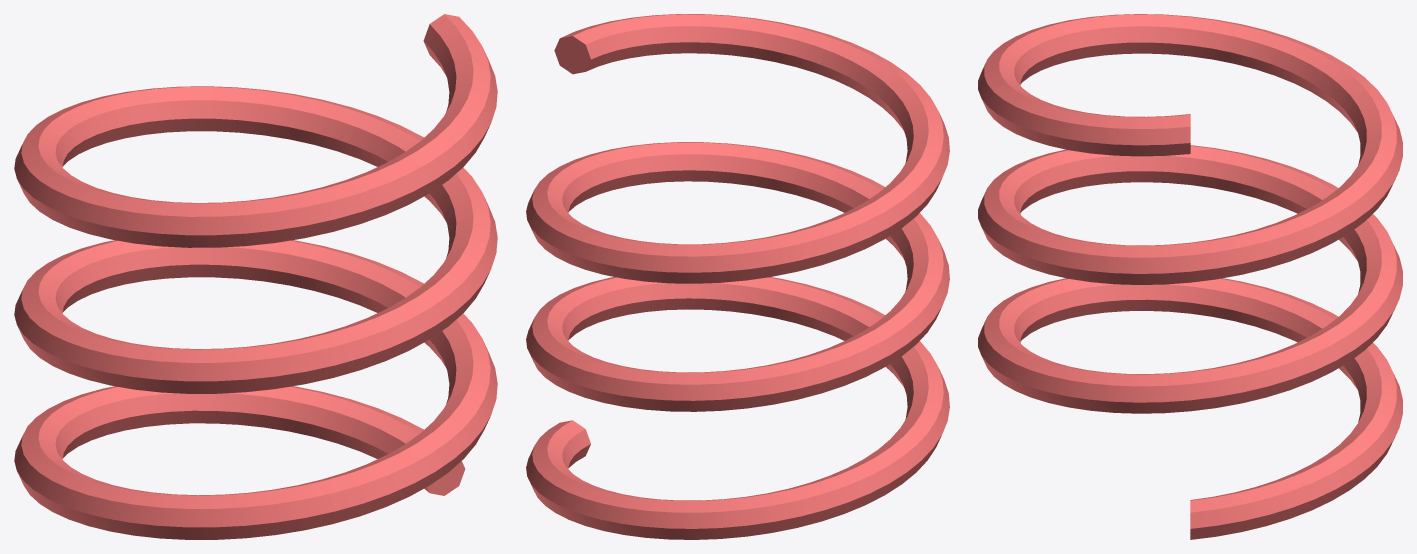
File: SpiralPBR.fbx
3 views of the same model, side by side, from view 1: azimuth 30°, elevation 25°; view 2: azimuth 150°, elevation 25°; view 3: azimuth 270°, elevation 25° (orthographic). The views are drawn at different scales.
Parts seen in each view (by area): view 1: pHelix1; view 2: pHelix1; view 3: pHelix1.
Part boxes in pixels (x1,y1,x2,y2): pHelix1: (14,14,497,539); pHelix1: (526,14,949,539); pHelix1: (978,14,1402,539).
Bounding box in the file's own units: 2 × 2.2 × 2.
